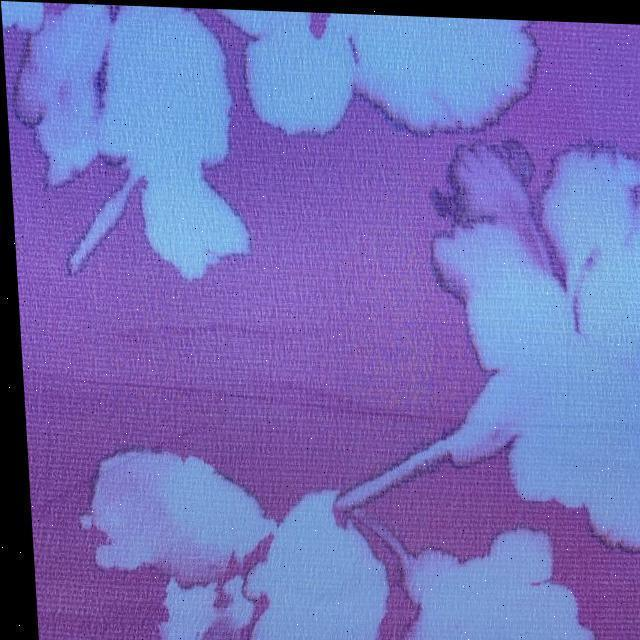pulled_or_thick_thread: (50, 376, 427, 418)
